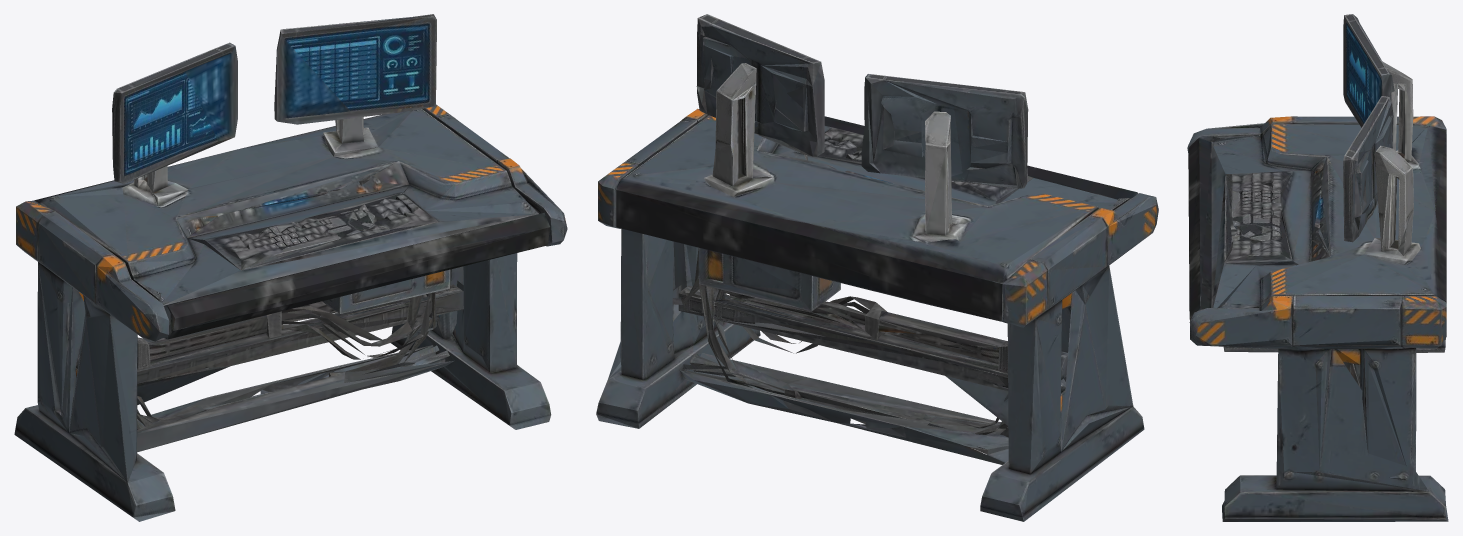
Rendered from console.glb.
The picture shows the model from 3 angles, left to right: view 1: azimuth 30°, elevation 25°; view 2: azimuth 150°, elevation 25°; view 3: azimuth 270°, elevation 25°; orthographic projection. The views are drawn at different scales.
Parts seen in each view (by area): view 1: Mesh_0; view 2: Mesh_0; view 3: Mesh_0.
Part boxes in pixels (x1,y1,x2,y2): Mesh_0: (14,14,567,521); Mesh_0: (596,14,1158,521); Mesh_0: (1187,14,1448,521).
Bounding box in the file's own units: 1.9 × 1.6 × 1.1.
Materials: 1 (1 with a texture image).
